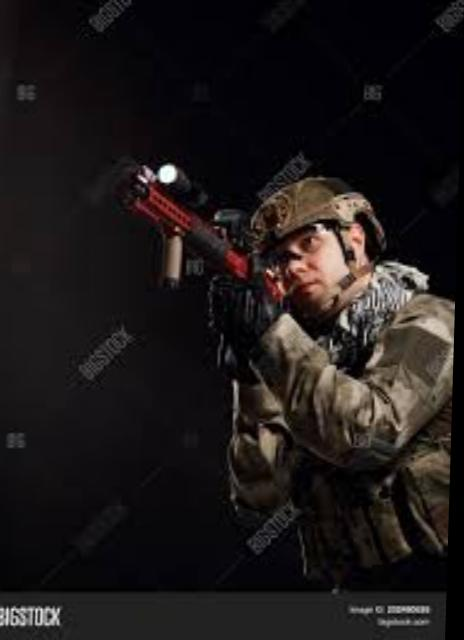other: (204, 178, 458, 588)
